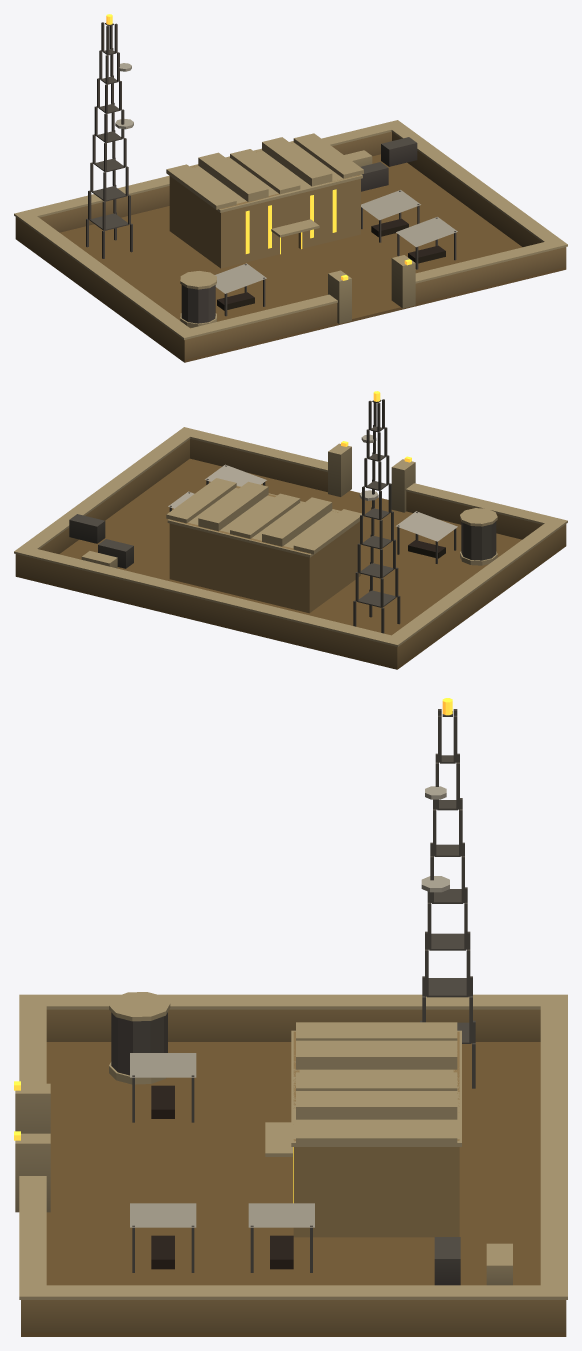
The model's file is shaddai_realm_landmarks_desert_v01.glb.
The picture shows the model from 3 angles, top to bottom: view 1: azimuth 30°, elevation 25°; view 2: azimuth 150°, elevation 25°; view 3: azimuth 270°, elevation 25°; orthographic projection. The views are drawn at different scales.
Visible parts, largest first — view 1: shaddai_landmark_desert_terminal; view 2: shaddai_landmark_desert_terminal; view 3: shaddai_landmark_desert_terminal.
Part boxes in pixels (x1,y1,x2,y2): shaddai_landmark_desert_terminal: [14, 14, 567, 362]; shaddai_landmark_desert_terminal: [14, 391, 567, 669]; shaddai_landmark_desert_terminal: [14, 698, 567, 1336].
Bounding box in the file's own units: 60.3 × 35.5 × 46.75.
